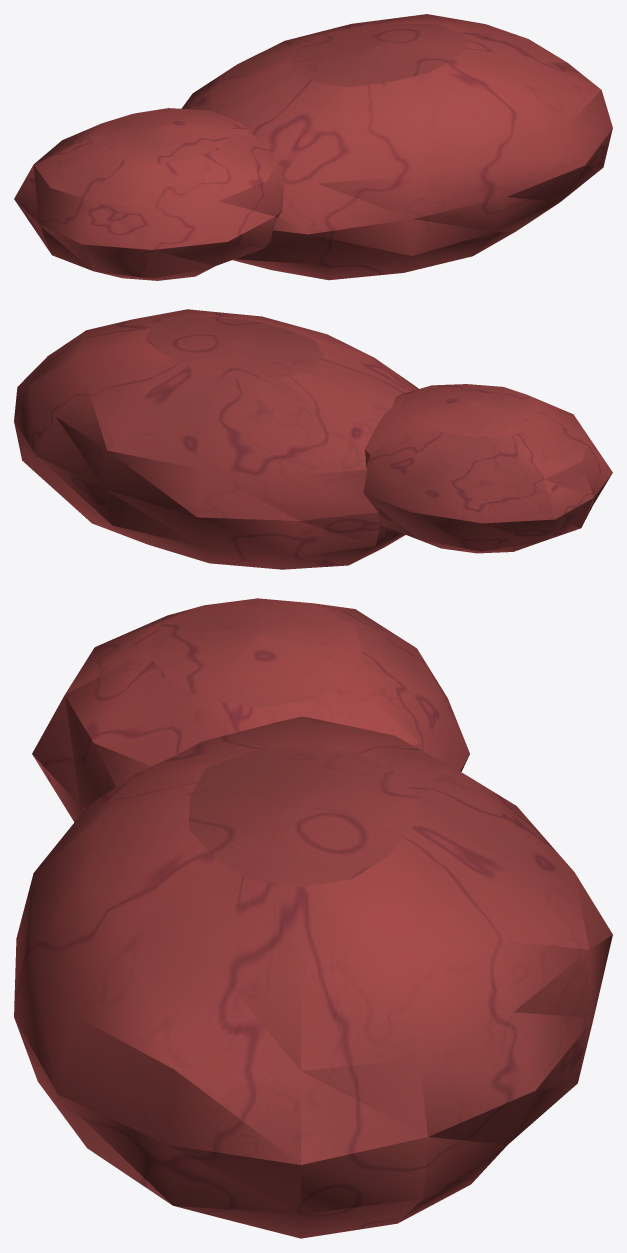
Rendered from liver.glb.
The picture shows the model from 3 angles, top to bottom: view 1: azimuth 30°, elevation 25°; view 2: azimuth 150°, elevation 25°; view 3: azimuth 270°, elevation 25°; orthographic projection. The views are drawn at different scales.
Parts seen in each view (by area): view 1: OUT; view 2: OUT; view 3: OUT.
Boxes of the visible parts, left/top/right/bottom form: OUT: left=14, top=14, right=612, bottom=280; OUT: left=14, top=309, right=612, bottom=569; OUT: left=14, top=598, right=612, bottom=1238.
Size of the model in its own units: 0.2647 by 0.09 by 0.1382.
Materials: 1 (1 with a texture image).
